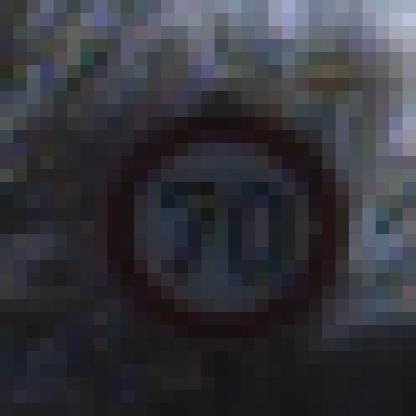Speed Limit 70: (121, 121, 336, 330)
